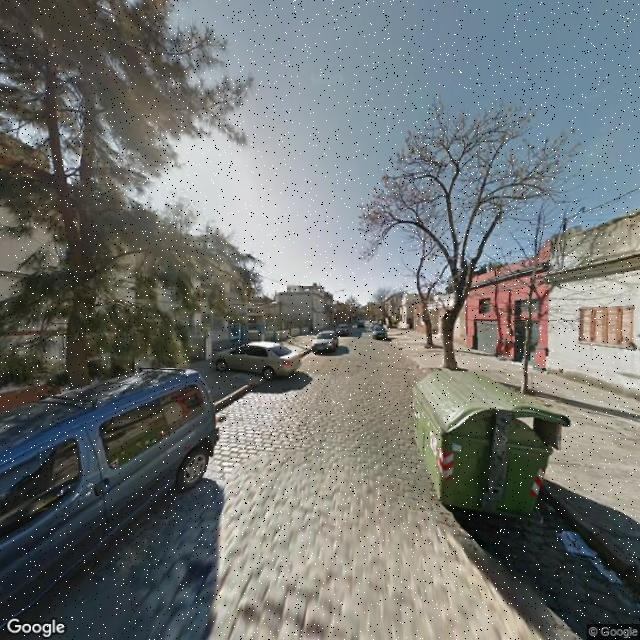garbage container: (408, 364, 579, 534)
